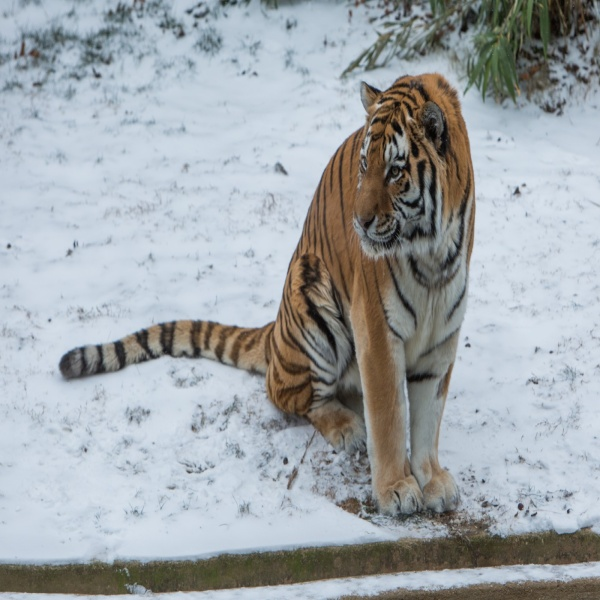Tiger: (55, 68, 482, 519)
